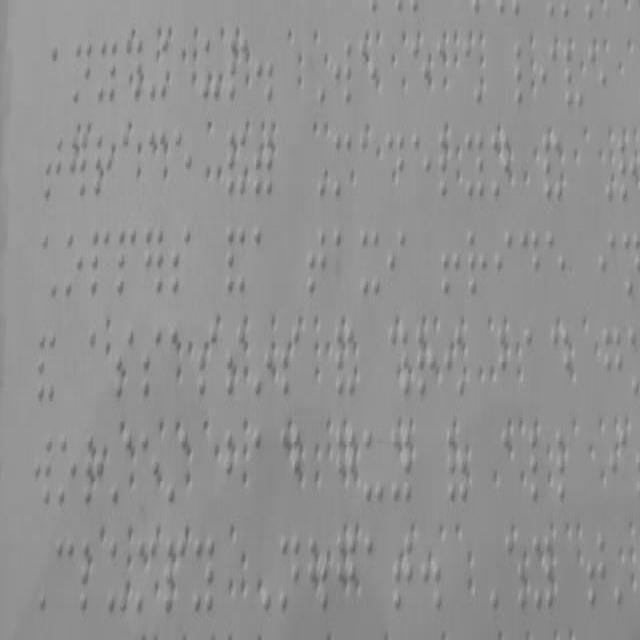braiile: (275, 528, 303, 619), (584, 526, 610, 616), (332, 529, 358, 618), (389, 529, 415, 618), (529, 529, 555, 618), (388, 420, 414, 504), (526, 421, 550, 512), (250, 420, 274, 509), (134, 532, 158, 619), (191, 532, 215, 619), (138, 426, 162, 512), (224, 426, 248, 512), (607, 426, 631, 512), (279, 422, 303, 507), (106, 536, 130, 620), (360, 428, 386, 504), (112, 324, 136, 406), (140, 324, 164, 406), (168, 324, 192, 406), (196, 321, 220, 403), (224, 319, 248, 401), (278, 319, 302, 401), (548, 321, 572, 403), (601, 324, 625, 406), (54, 531, 76, 620), (165, 533, 188, 618), (144, 126, 168, 206), (56, 431, 80, 511), (408, 34, 432, 112), (83, 430, 107, 508), (334, 423, 358, 501), (363, 531, 385, 616), (172, 122, 195, 202), (466, 222, 489, 302), (561, 38, 585, 114), (497, 319, 519, 401), (500, 424, 522, 506), (80, 537, 102, 619), (332, 128, 356, 202), (116, 220, 138, 300), (520, 224, 542, 304), (416, 322, 438, 402), (305, 226, 329, 298), (228, 26, 250, 104), (359, 32, 381, 110), (437, 125, 459, 203), (435, 32, 457, 110), (616, 130, 638, 208), (546, 228, 568, 306), (463, 129, 487, 200), (201, 31, 223, 107), (89, 222, 111, 298), (494, 228, 516, 304), (170, 224, 193, 296), (93, 127, 115, 202), (360, 225, 382, 299), (71, 37, 93, 110), (512, 37, 534, 110), (598, 224, 618, 304), (90, 324, 110, 404), (332, 222, 353, 298), (386, 224, 408, 296), (332, 36, 353, 111), (555, 421, 573, 508), (97, 38, 119, 109), (44, 127, 64, 205), (65, 226, 85, 304), (523, 323, 543, 401), (491, 128, 512, 202), (411, 130, 432, 199), (360, 126, 380, 198), (386, 126, 406, 198), (588, 41, 608, 110), (252, 224, 272, 292), (540, 38, 556, 109)
